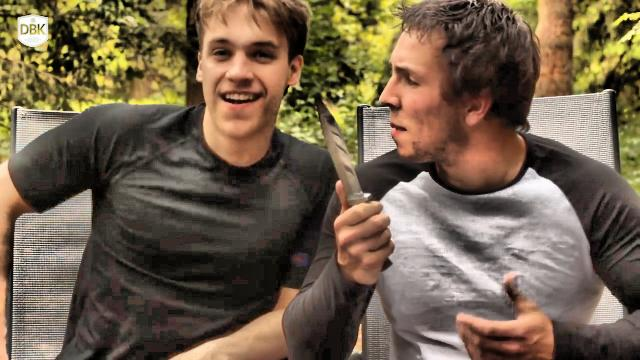knife: (307, 86, 398, 264)
